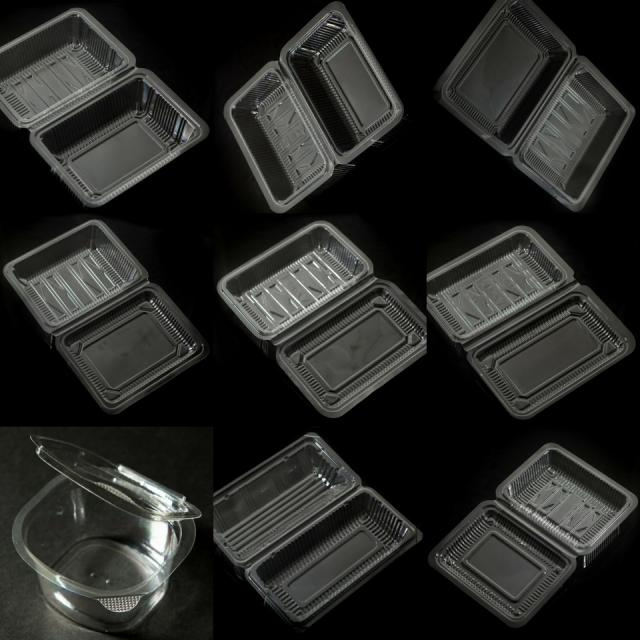Single-Use-Plastic: (435, 0, 635, 211), (0, 9, 209, 207), (218, 221, 426, 418), (214, 434, 421, 628), (428, 226, 635, 419), (4, 220, 209, 414), (429, 444, 638, 627), (225, 2, 404, 212), (12, 435, 201, 632)
